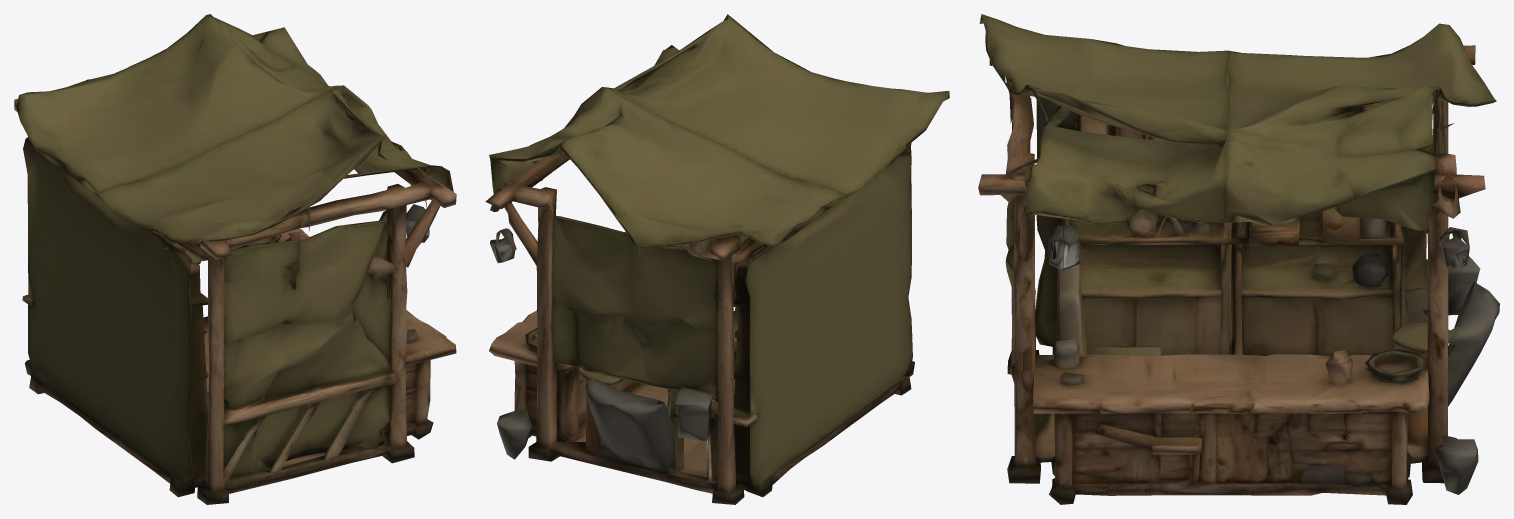
File: market_stall.glb
The picture shows the model from 3 angles, left to right: view 1: azimuth 30°, elevation 25°; view 2: azimuth 150°, elevation 25°; view 3: azimuth 270°, elevation 25°; orthographic projection. The views are drawn at different scales.
Visible parts, largest first — view 1: market_stall; view 2: market_stall; view 3: market_stall.
Part boxes in pixels (x1,y1,x2,y2): market_stall: (14,14,456,504); market_stall: (485,14,949,504); market_stall: (978,14,1499,504).
Bounding box in the file's own units: 1.97 × 2.12 × 2.6.
1 material, 1 textured.
